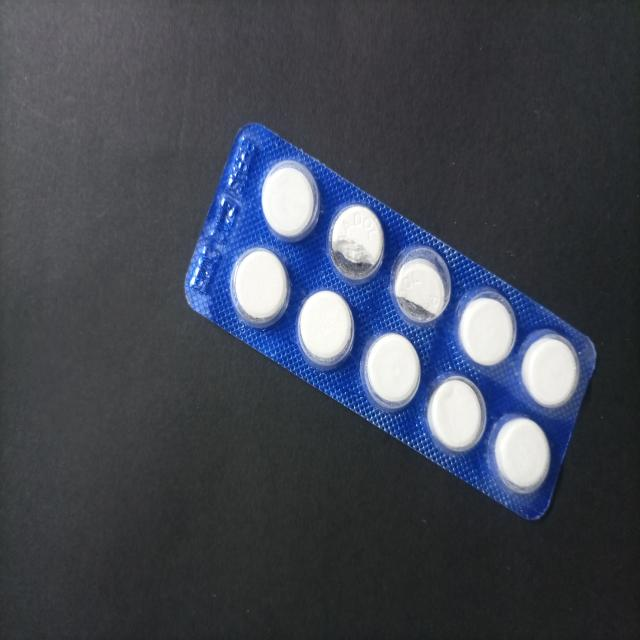defect: (389, 242, 454, 329), (326, 202, 387, 282)
